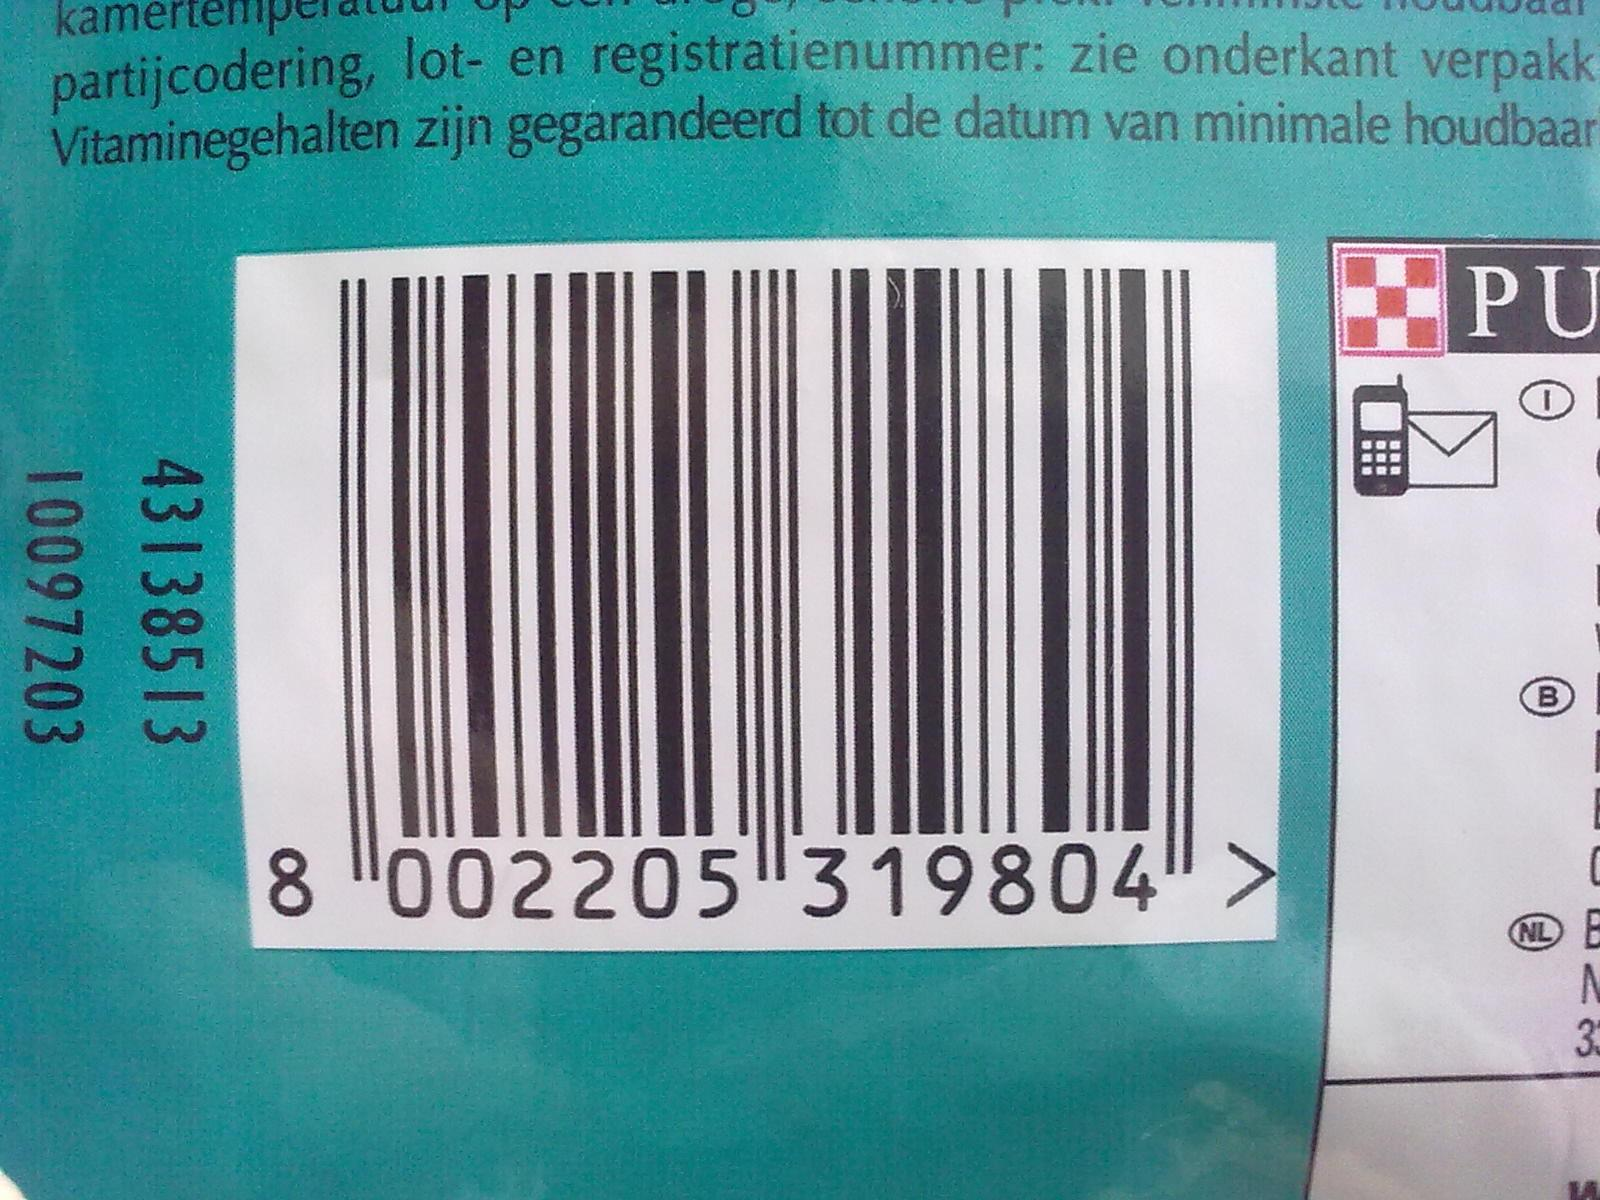Barcode: (231, 239, 1207, 950)
